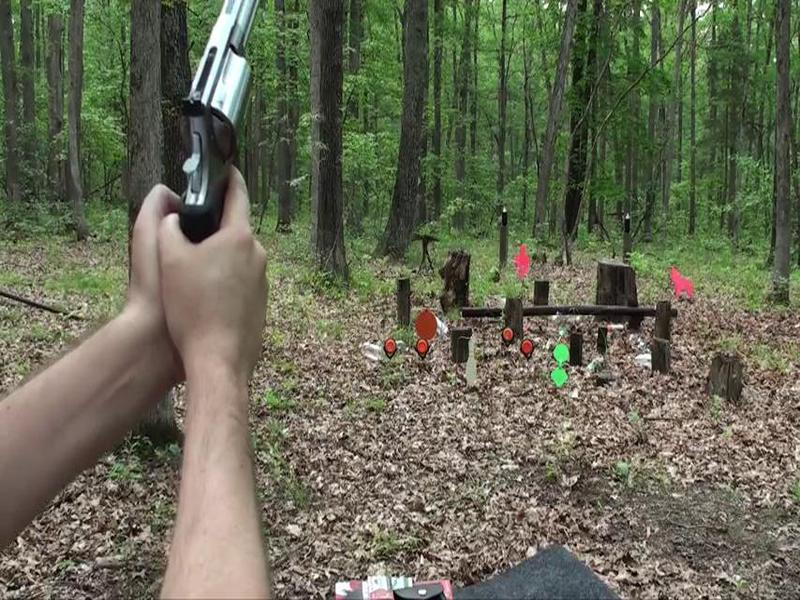Revolver: (142, 1, 293, 263)
